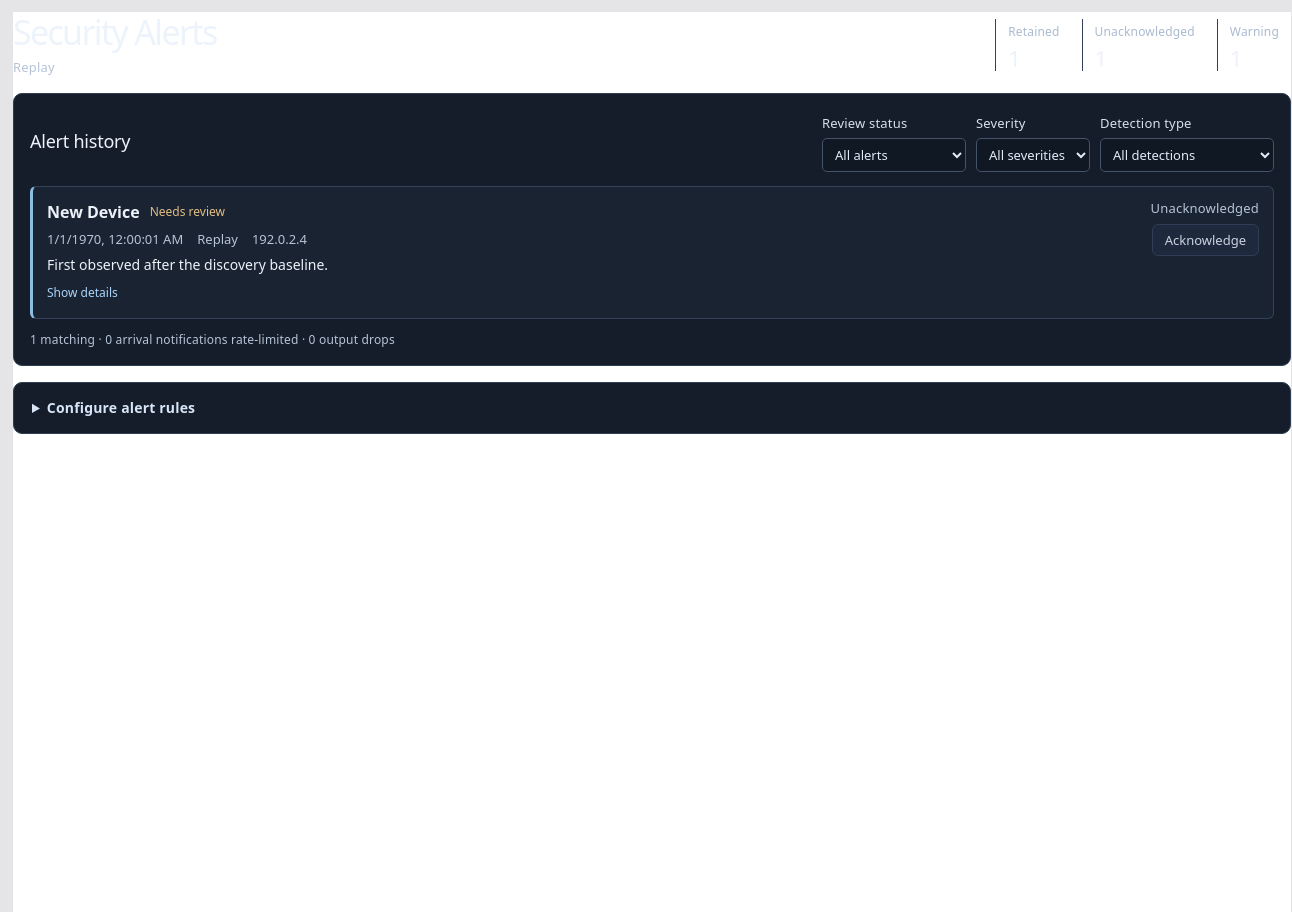
Test case: presents an untrusted arrival as a reviewable device observation and retains Info in details
Expected: the text "New Device" is shown, [47, 199, 140, 226]
Expected: the text "Needs review" is shown, [150, 199, 225, 226]
Click the button that starts with "New Device": (93, 212) [47, 199, 1137, 306]
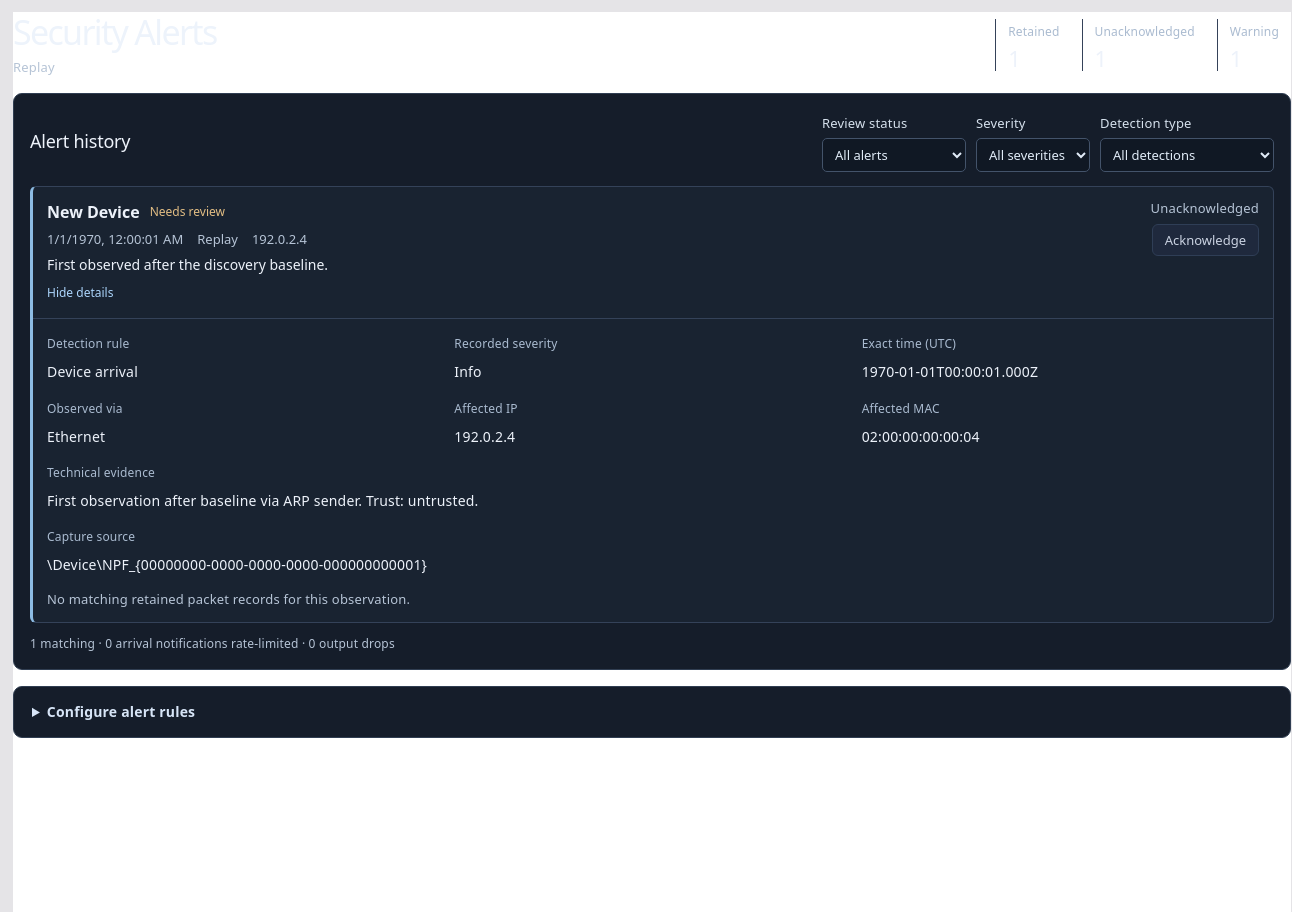
Expected: the text "Info" is shown, [454, 362, 482, 382]
Expected: the text "First observation after baseline via ARP sender. Trust: untrusted." is shown, [47, 491, 478, 510]
